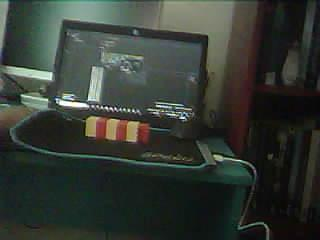lego: (84, 115, 150, 144)
